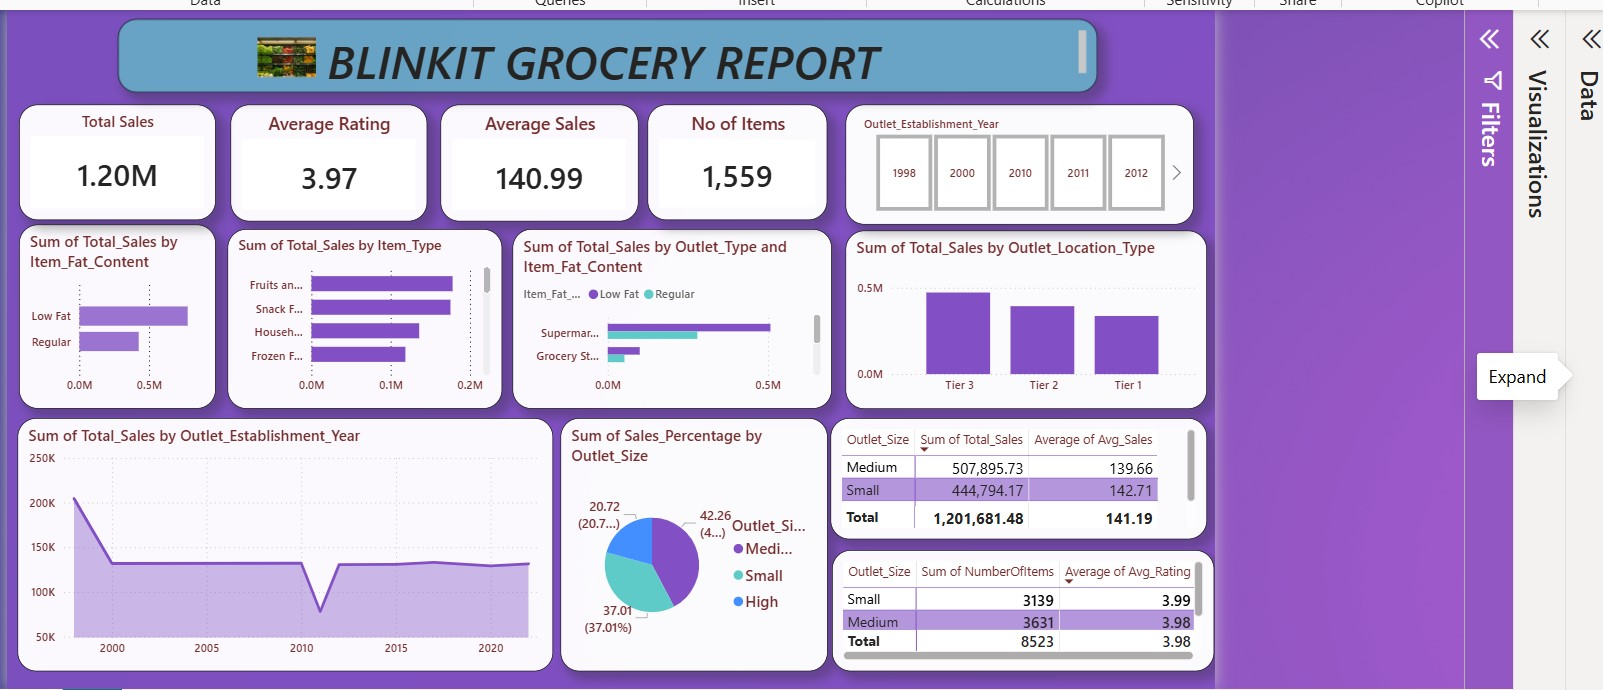

The page's visual inventory and layout, read from the dashboard file:
{"tool":"powerbi","page":{"name":"Page 1","canvas":[1280,720],"ordinal":0},"visuals":[{"type":"cardVisual","title":"Average Rating","fields":{"Data":["Sum(Query2.Average_Rating)"]},"box":[237,100.2,208.4,124.1],"z":1},{"type":"cardVisual","title":"Average Sales","fields":{"Data":["Sum(Query2.Average_Sales)"]},"box":[459.7,100.2,210,124.1],"z":2},{"type":"clusteredBarChart","fields":{"Category":["Query3.Item_Fat_Content"],"Y":["Sum(Query3.Total_Sales)"]},"box":[12.7,227.5,208.4,195.6],"z":4},{"type":"clusteredBarChart","fields":{"Category":["Query3.Item_Type"],"Y":["Sum(Query3.Total_Sales)"]},"box":[233.8,232.2,291.1,190.9],"z":5},{"type":"clusteredBarChart","fields":{"Category":["Query3.Outlet_Type"],"Y":["Sum(Query3.Total_Sales)"],"Series":["Query3.Item_Fat_Content"]},"box":[536,232.2,338.8,190.9],"z":6},{"type":"cardVisual","title":"Total Sales","fields":{"Data":["Sum(Query3.Total_Sales)"]},"box":[12.7,100.2,208.4,122.5],"z":7},{"type":"areaChart","fields":{"Category":["Query3.Outlet_Establishment_Year"],"Y":["Sum(Query3.Total_Sales)"]},"box":[11.1,432.6,567.8,268.8],"z":8},{"type":"pieChart","fields":{"Category":["Query1.Outlet_Size"],"Y":["Sum(Query1.Sales_Percentage)"]},"box":[586.9,432.6,283.1,268.8],"z":9},{"type":"clusteredColumnChart","fields":{"Y":["Sum(Query1.Total_Sales)"],"Category":["Query1.Outlet_Location_Type"]},"box":[889.2,233.8,383.3,189.3],"z":10},{"type":"pivotTable","fields":{"Rows":["Query1.Outlet_Size"],"Values":["Sum(Query1.Total_Sales)","Avg(Query1.Avg_Sales)"]},"box":[873.2,432.6,399.2,128.8],"z":11},{"type":"pivotTable","fields":{"Rows":["Query1.Outlet_Size"],"Values":["Sum(Query1.NumberOfItems)","Avg(Query1.Avg_Rating)"]},"box":[874.8,572.6,405.6,128.8],"z":12},{"type":"slicer","fields":{"Values":["Query3.Outlet_Establishment_Year"]},"box":[889.2,100.2,369,127.2],"z":13},{"type":"textbox","box":[117.7,9.5,1038.7,77.9],"z":15},{"type":"image","box":[265.6,28.6,62,42.9],"z":16},{"type":"cardVisual","title":"No of Items","fields":{"Data":["Query3.Count_Unique_Items"]},"box":[679.2,100.2,190.9,122.5],"z":17}]}

Visuals, with their boxes in screenshot pixels (x1, y1, x2, y2):
"Average Rating" cardVisual: [224, 99, 420, 216]
"Average Sales" cardVisual: [434, 99, 632, 216]
clusteredBarChart - Query3.Item_Fat_Content x Sum(Query3.Total_Sales): [12, 219, 209, 403]
clusteredBarChart - Query3.Item_Type x Sum(Query3.Total_Sales): [221, 223, 495, 403]
clusteredBarChart - Query3.Outlet_Type x Sum(Query3.Total_Sales): [506, 223, 825, 403]
"Total Sales" cardVisual: [12, 99, 209, 214]
areaChart - Query3.Outlet_Establishment_Year x Sum(Query3.Total_Sales): [10, 412, 546, 666]
pieChart - Query1.Outlet_Size x Sum(Query1.Sales_Percentage): [554, 412, 821, 666]
clusteredColumnChart - Sum(Query1.Total_Sales) x Query1.Outlet_Location_Type: [839, 225, 1201, 403]
pivotTable - Query1.Outlet_Size x Sum(Query1.Total_Sales): [824, 412, 1200, 534]
pivotTable - Query1.Outlet_Size x Sum(Query1.NumberOfItems): [825, 544, 1208, 666]
slicer - Query3.Outlet_Establishment_Year: [839, 99, 1187, 219]
textbox: [111, 13, 1091, 87]
image: [251, 31, 309, 72]
"No of Items" cardVisual: [641, 99, 821, 214]
